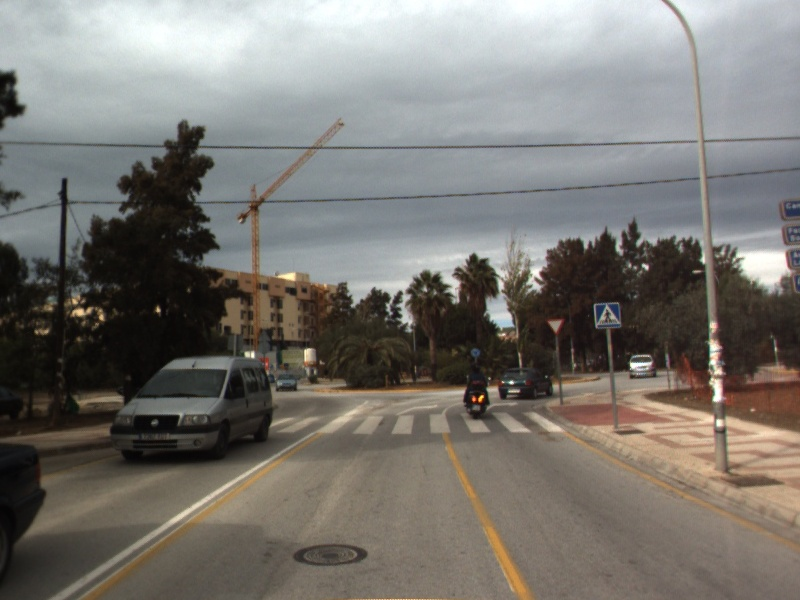RIGHT: (394, 402, 439, 417), (484, 399, 521, 412)
